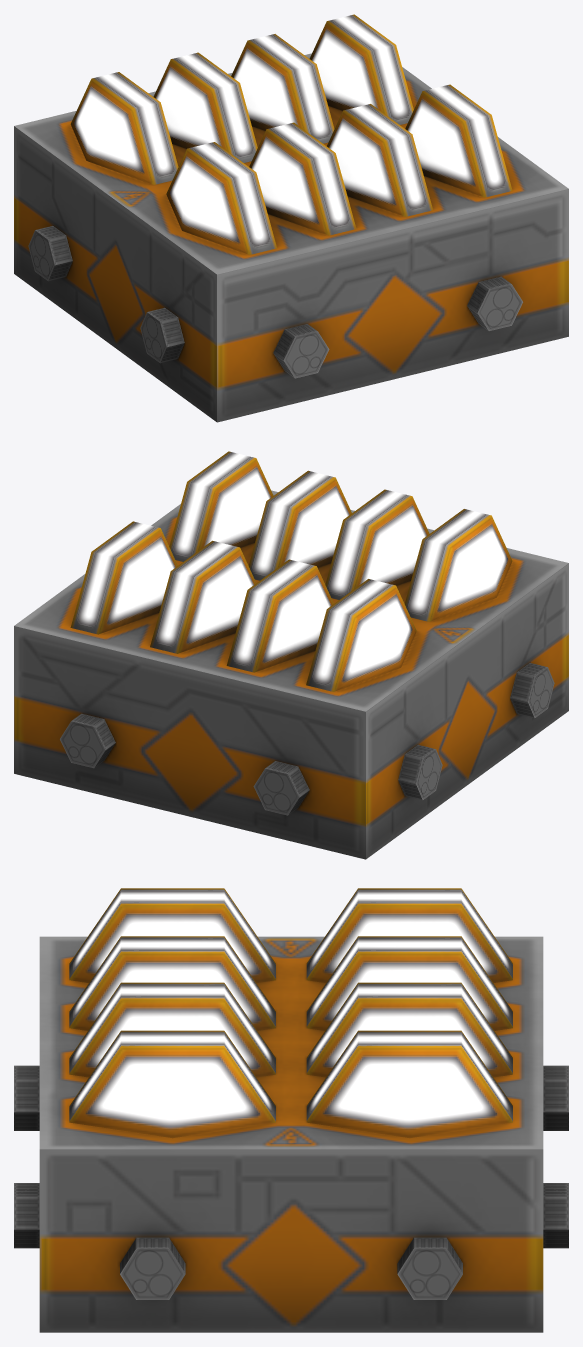
File: Capacitor.dae
The picture shows the model from 3 angles, top to bottom: view 1: azimuth 30°, elevation 25°; view 2: azimuth 150°, elevation 25°; view 3: azimuth 270°, elevation 25°; orthographic projection. The views are drawn at different scales.
Visible parts, largest first — view 1: Capacitor; view 2: Capacitor; view 3: Capacitor.
Part boxes in pixels (x1,y1,x2,y2): Capacitor: (14, 14, 568, 422); Capacitor: (14, 451, 568, 859); Capacitor: (14, 888, 568, 1332).
Bounding box in the file's own units: 2 × 1.03 × 2.
